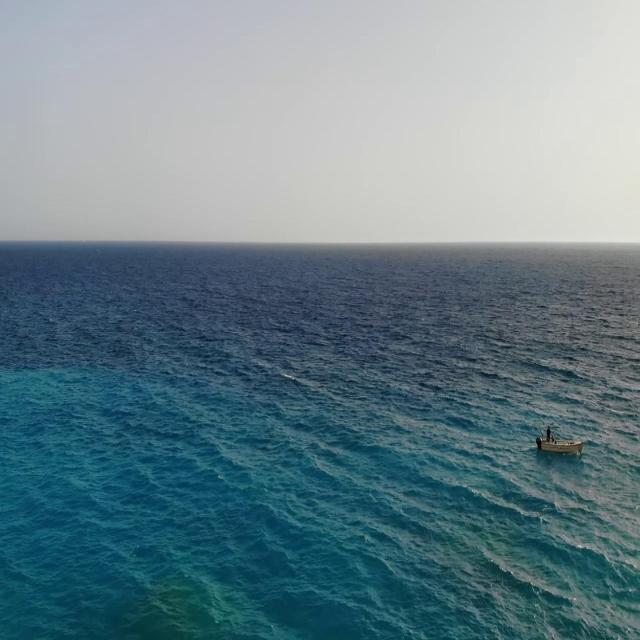boat: (534, 426, 584, 460)
